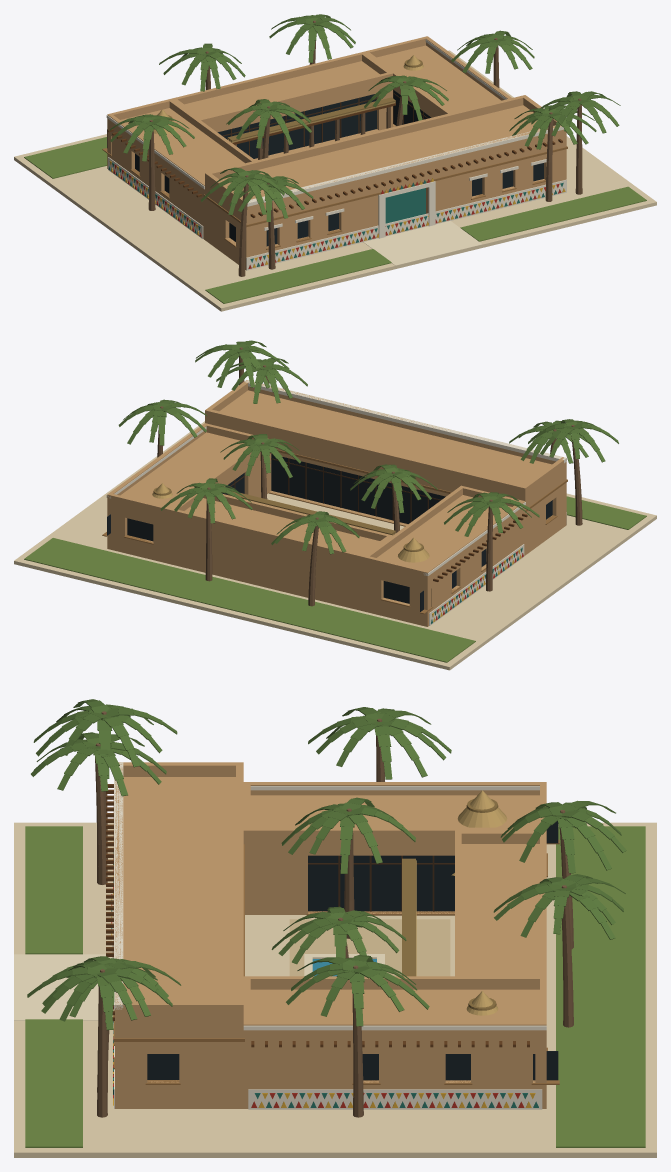
The model's file is tihami.glb.
3 views of the same model, one above another, from view 1: azimuth 30°, elevation 25°; view 2: azimuth 150°, elevation 25°; view 3: azimuth 270°, elevation 25° (orthographic). The views are drawn at different scales.
Visible parts, largest first — view 1: Tihami_mud, Tihami_pave, Tihami_leaf, Tihami_lawn, Tihami_lime, Tihami_glass, Tihami_trunk, Tihami_coping, Tihami_wood, Tihami_mud_d, Tihami_door, Tihami_reed_d (+5 smaller); view 2: Tihami_mud, Tihami_pave, Tihami_lawn, Tihami_leaf, Tihami_glass, Tihami_lime, Tihami_trunk, Tihami_mud_d, Tihami_reed_d, Tihami_frame, Tihami_reed; view 3: Tihami_mud, Tihami_pave, Tihami_lawn, Tihami_leaf, Tihami_lime, Tihami_glass, Tihami_trunk, Tihami_court, Tihami_coping, Tihami_reed_d, Tihami_mud_d, Tihami_wood (+5 smaller).
Boxes of the visible parts, x1=… form: Tihami_mud: x1=107, y1=36, x2=566, y2=269; Tihami_pave: x1=14, y1=50, x2=656, y2=311; Tihami_leaf: x1=109, y1=14, x2=620, y2=221; Tihami_lawn: x1=24, y1=137, x2=646, y2=303; Tihami_lime: x1=106, y1=39, x2=566, y2=270; Tihami_glass: x1=107, y1=90, x2=543, y2=246; Tihami_trunk: x1=148, y1=20, x2=582, y2=276; Tihami_coping: x1=363, y1=221, x2=482, y2=265; Tihami_wood: x1=107, y1=103, x2=562, y2=217; Tihami_mud_d: x1=102, y1=124, x2=567, y2=249; Tihami_door: x1=385, y1=188, x2=425, y2=223; Tihami_reed_d: x1=168, y1=59, x2=422, y2=141; Tihami_mud: x1=107, y1=380, x2=566, y2=626; Tihami_pave: x1=14, y1=421, x2=656, y2=670; Tihami_lawn: x1=24, y1=496, x2=646, y2=662; Tihami_leaf: x1=118, y1=340, x2=618, y2=554; Tihami_glass: x1=107, y1=454, x2=552, y2=611; Tihami_lime: x1=106, y1=380, x2=566, y2=625; Tihami_trunk: x1=157, y1=347, x2=582, y2=606; Tihami_mud_d: x1=102, y1=450, x2=567, y2=614; Tihami_reed_d: x1=153, y1=487, x2=423, y2=551; Tihami_frame: x1=222, y1=458, x2=445, y2=522; Tihami_reed: x1=152, y1=483, x2=429, y2=562; Tihami_mud: x1=115, y1=762, x2=546, y2=1108; Tihami_pave: x1=14, y1=822, x2=656, y2=1157; Tihami_lawn: x1=25, y1=826, x2=645, y2=1147; Tihami_leaf: x1=27, y1=699, x2=626, y2=1030; Tihami_lime: x1=112, y1=762, x2=546, y2=1109; Tihami_glass: x1=147, y1=821, x2=558, y2=1080; Tihami_trunk: x1=95, y1=711, x2=573, y2=1117; Tihami_court: x1=289, y1=919, x2=450, y2=976; Tihami_coping: x1=14, y1=954, x2=384, y2=1020; Tihami_reed_d: x1=402, y1=799, x2=498, y2=1010; Tihami_mud_d: x1=113, y1=800, x2=559, y2=1084; Tihami_wood: x1=106, y1=784, x2=529, y2=1047.
Size of the model in its own units: 34 by 7.58 by 28.
